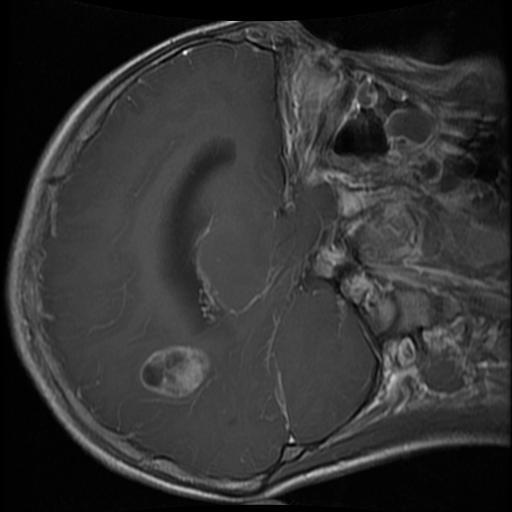glioma: (136, 345, 212, 399)
